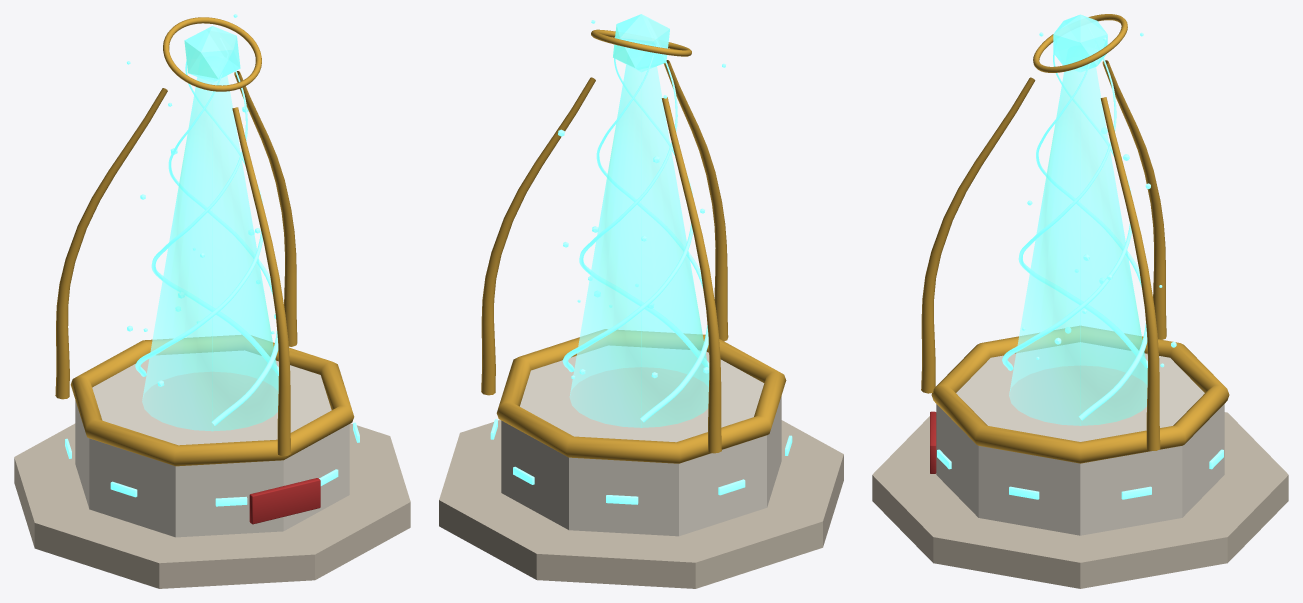
File: puitsdivin.glb
3 views of the same model, side by side, from view 1: azimuth 30°, elevation 25°; view 2: azimuth 150°, elevation 25°; view 3: azimuth 270°, elevation 25° (orthographic). The views are drawn at different scales.
Visible parts, largest first — view 1: marble, ether_veil, marble2, gold, ether, ether_soft, team; view 2: marble, ether_veil, marble2, gold, ether, ether_soft; view 3: marble, ether_veil, marble2, gold, ether, ether_soft.
Part boxes in pixels (x1,y1,x2,y2): marble: (75, 350, 349, 537); ether_veil: (142, 75, 278, 431); marble2: (14, 423, 410, 588); gold: (55, 17, 354, 466); ether: (65, 14, 359, 506); ether_soft: (184, 26, 240, 82); team: (249, 478, 320, 524); marble: (501, 345, 781, 536); ether_veil: (569, 64, 709, 427); marble2: (439, 420, 843, 588); gold: (481, 29, 786, 463); ether: (490, 20, 792, 504); ether_soft: (613, 14, 669, 71); marble: (936, 342, 1224, 535); ether_veil: (1009, 67, 1147, 425); marble2: (872, 412, 1288, 588); gold: (921, 14, 1229, 463); ether: (937, 27, 1223, 499); ether_soft: (1053, 14, 1107, 72).
Bounding box in the file's own units: 2.6 × 3.35 × 2.6.
